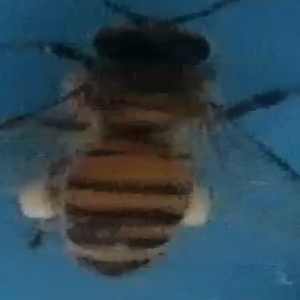bee: (3, 1, 300, 280)
